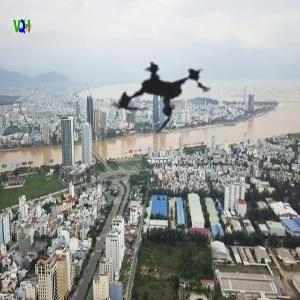drone: (75, 4, 250, 179)
